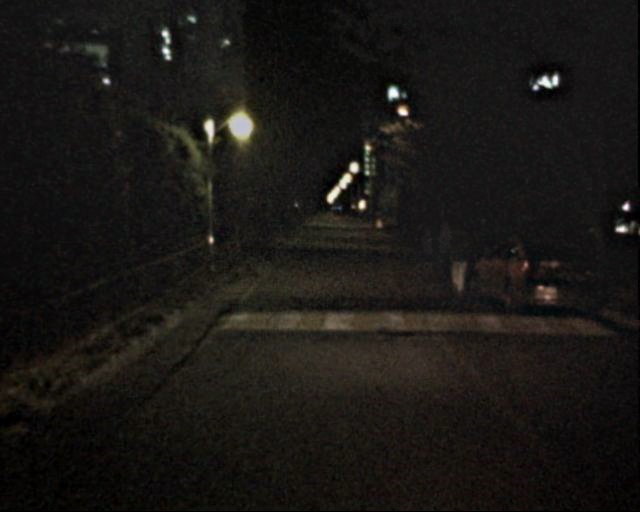person: (444, 227, 473, 297), (435, 222, 458, 279), (417, 227, 440, 282)
